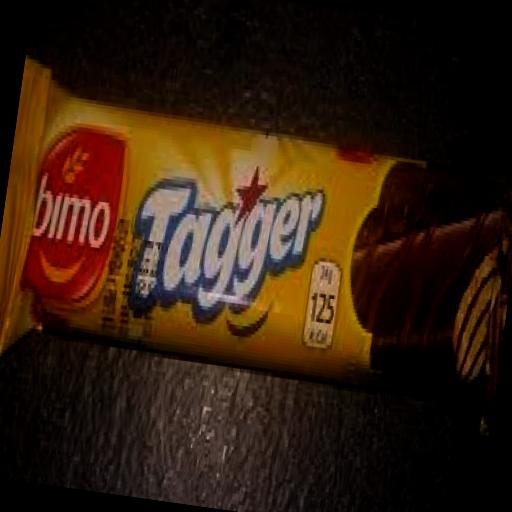tagger: (0, 12, 512, 495)
